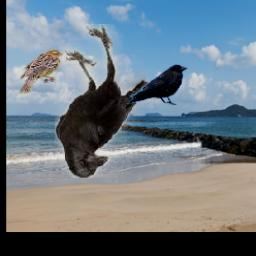Crow: (55, 25, 148, 179), (128, 63, 189, 105)
Sparrow: (20, 50, 64, 95)
